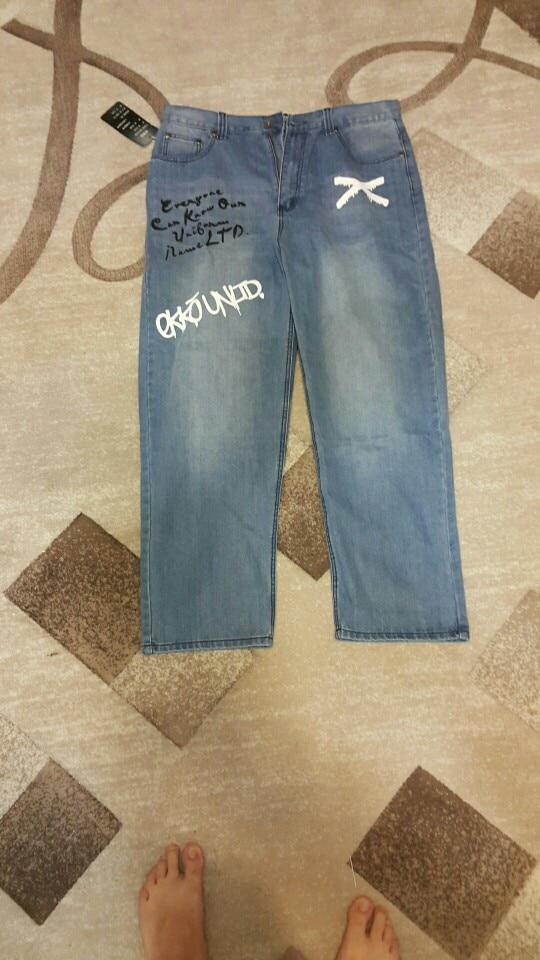jeans: (127, 102, 465, 659)
